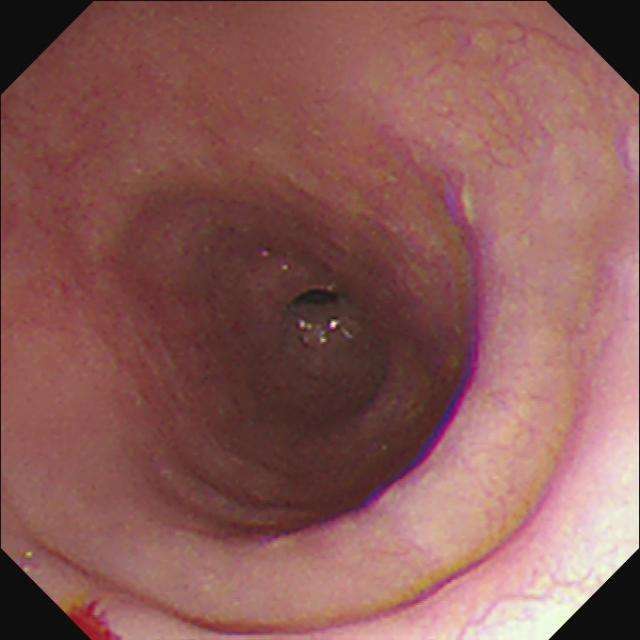C: (66, 596, 120, 640)
I: (228, 244, 396, 403)
